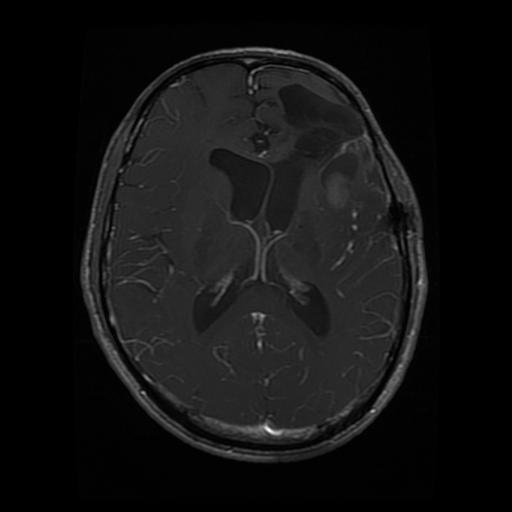Gliomia_tumour: (275, 80, 386, 231)
